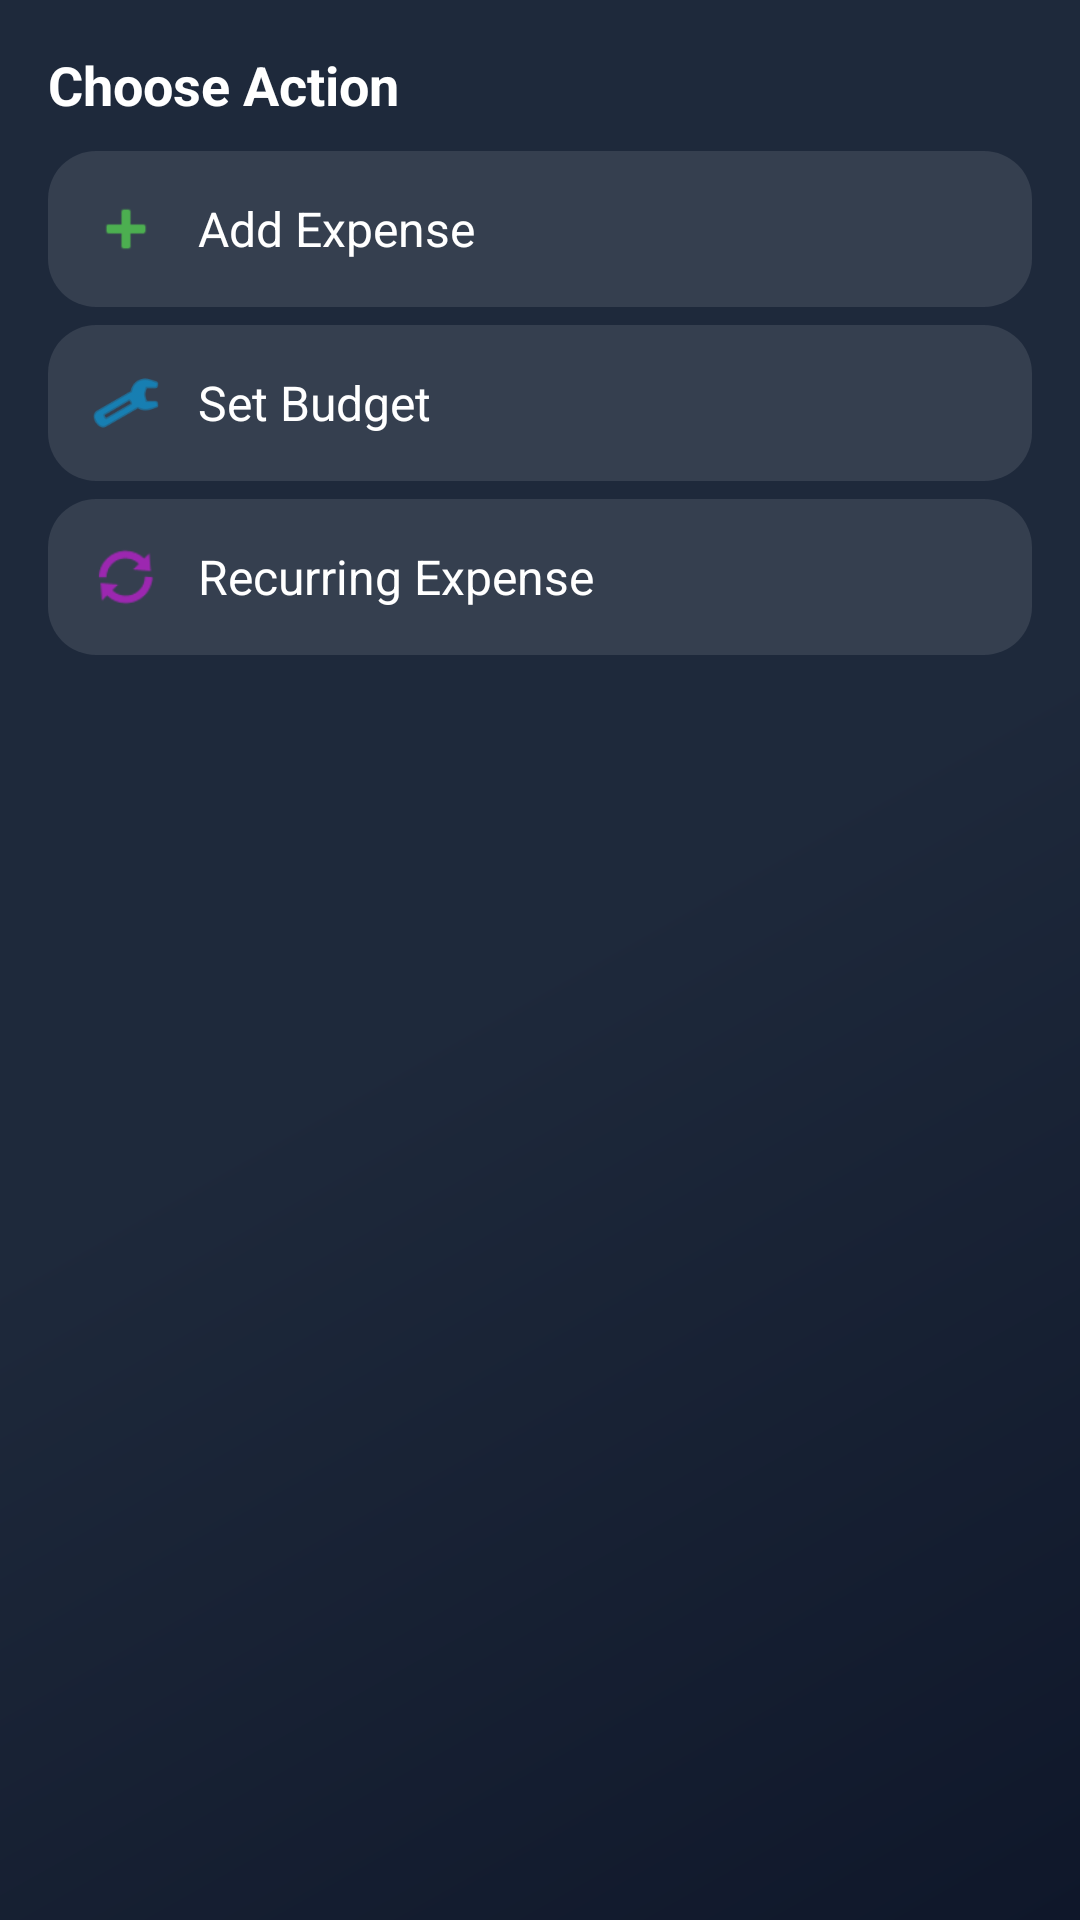

Where icons sit on this 1080px x 1920px app screen, as Rect(x1, y1, x2, y2):
manage: Rect(94, 378, 158, 428)
popup sync: Rect(99, 550, 153, 604)
